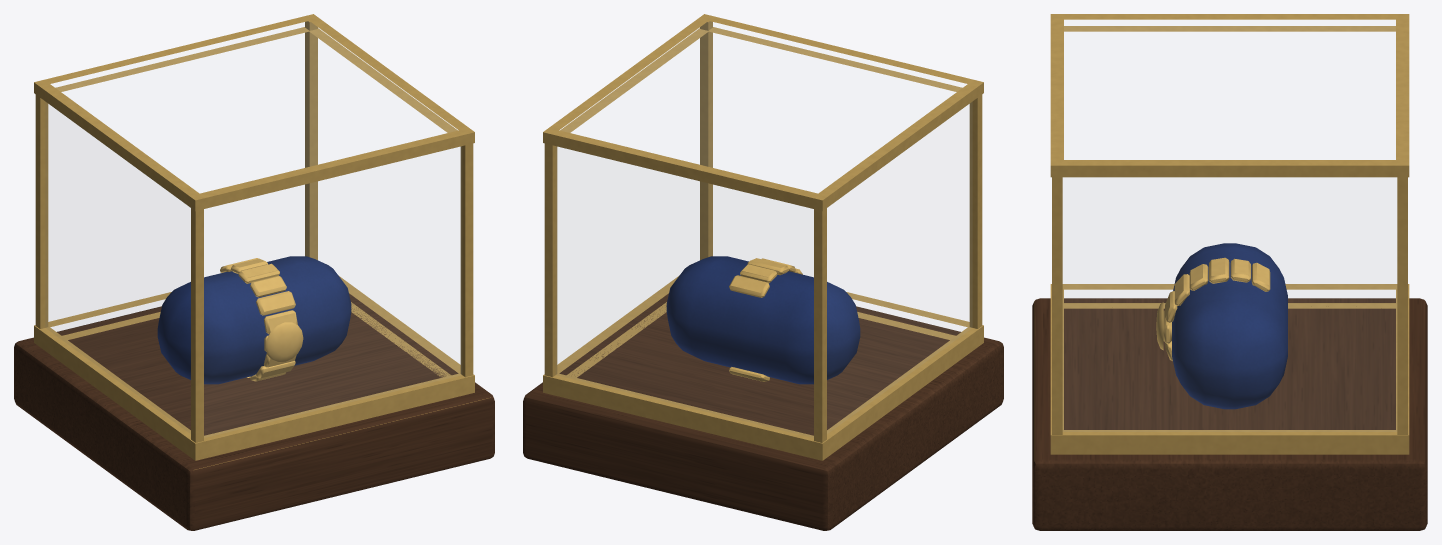
The model's file is SM_FS_CaseBracelet.glb.
3 views of the same model, side by side, from view 1: azimuth 30°, elevation 25°; view 2: azimuth 150°, elevation 25°; view 3: azimuth 270°, elevation 25° (orthographic). The views are drawn at different scales.
Parts seen in each view (by area): view 1: SM_FS_CaseBracelet; view 2: SM_FS_CaseBracelet; view 3: SM_FS_CaseBracelet.
Part boxes in pixels (bbox=[...]): SM_FS_CaseBracelet: bbox=[14, 14, 494, 530]; SM_FS_CaseBracelet: bbox=[523, 14, 1003, 530]; SM_FS_CaseBracelet: bbox=[1032, 14, 1427, 530].
Bounding box in the file's own units: 0.15 × 0.151 × 0.15.
2 materials, 1 textured.
